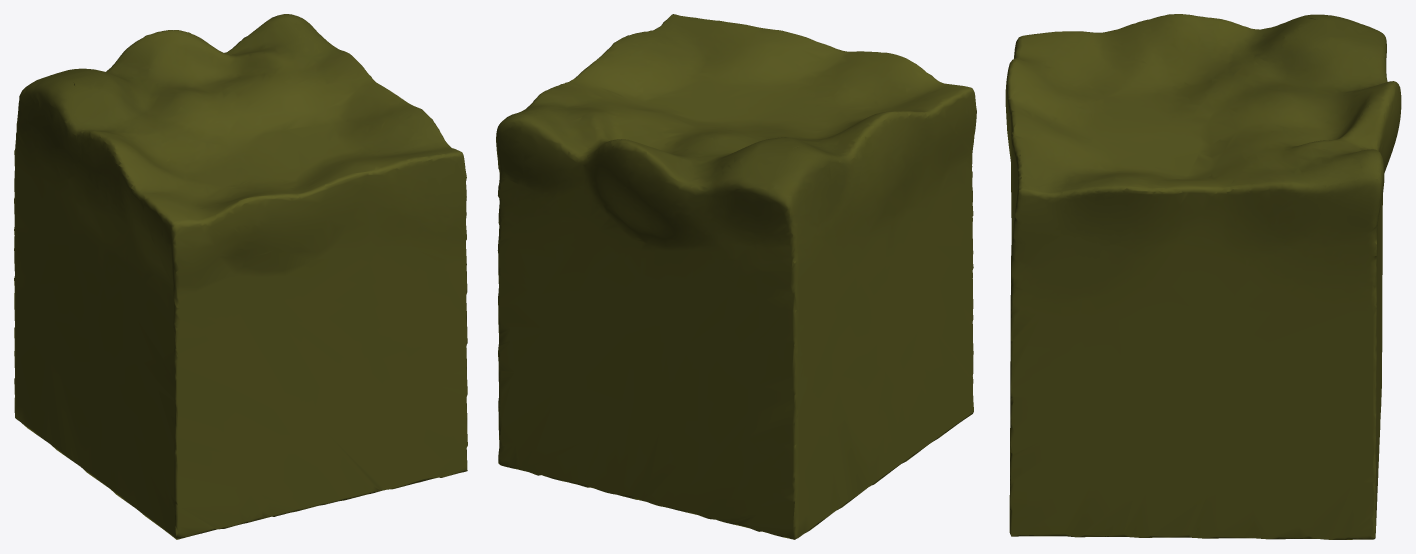
The model's file is tsmms_stage.gltf.
3 views of the same model, side by side, from view 1: azimuth 30°, elevation 25°; view 2: azimuth 150°, elevation 25°; view 3: azimuth 270°, elevation 25° (orthographic). The views are drawn at different scales.
Visible parts, largest first — view 1: Layer_1; view 2: Layer_1; view 3: Layer_1.
Boxes of the visible parts, x1=… form: Layer_1: x1=14, y1=14, x2=467, y2=539; Layer_1: x1=496, y1=14, x2=976, y2=539; Layer_1: x1=1005, y1=14, x2=1401, y2=539.
Size of the model in its own units: 46.6 by 51.73 by 48.45.
